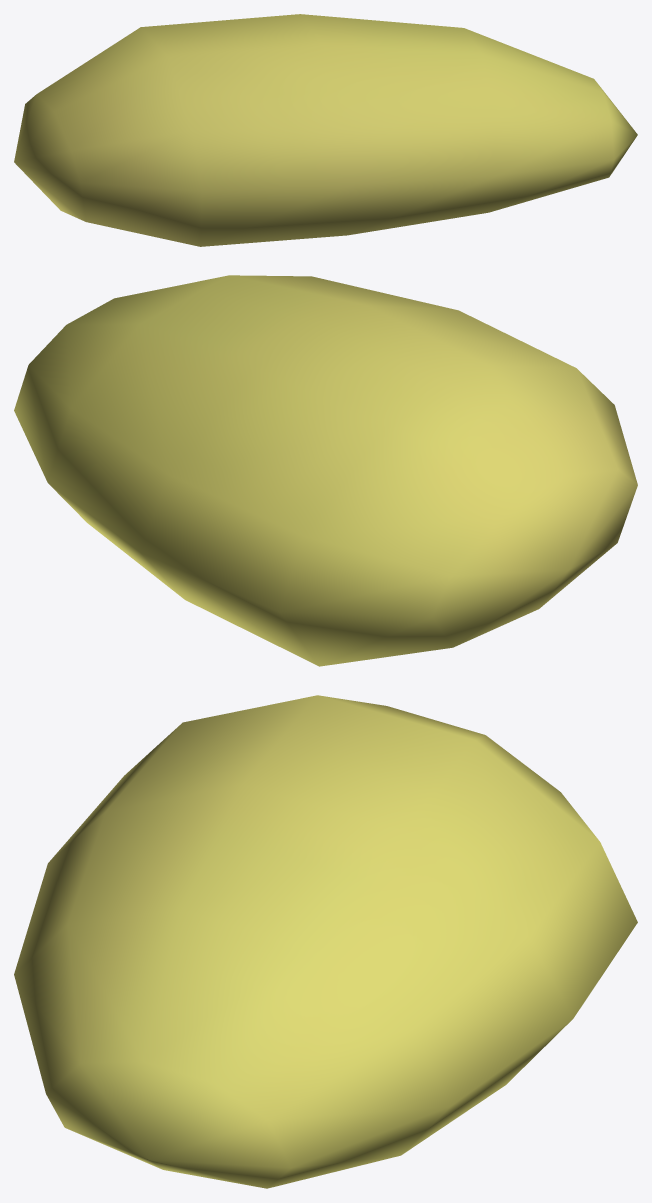
File: PC_Woman_Eyebrow007_L.glb
The picture shows the model from 3 angles, top to bottom: view 1: azimuth 30°, elevation 25°; view 2: azimuth 150°, elevation 25°; view 3: azimuth 270°, elevation 25°; orthographic projection. The views are drawn at different scales.
Visible parts, largest first — view 1: PC_Woman_Eyebrow007_L_mesh; view 2: PC_Woman_Eyebrow007_L_mesh; view 3: PC_Woman_Eyebrow007_L_mesh.
Boxes of the visible parts, bbox=[...] form: PC_Woman_Eyebrow007_L_mesh: bbox=[14, 14, 637, 246]; PC_Woman_Eyebrow007_L_mesh: bbox=[14, 275, 637, 666]; PC_Woman_Eyebrow007_L_mesh: bbox=[14, 695, 637, 1188].
Size of the model in its own units: 0.1075 by 0.0382 by 0.0801.
1 material, 1 textured.
